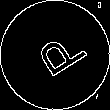P_SW: (24, 26, 86, 84)
